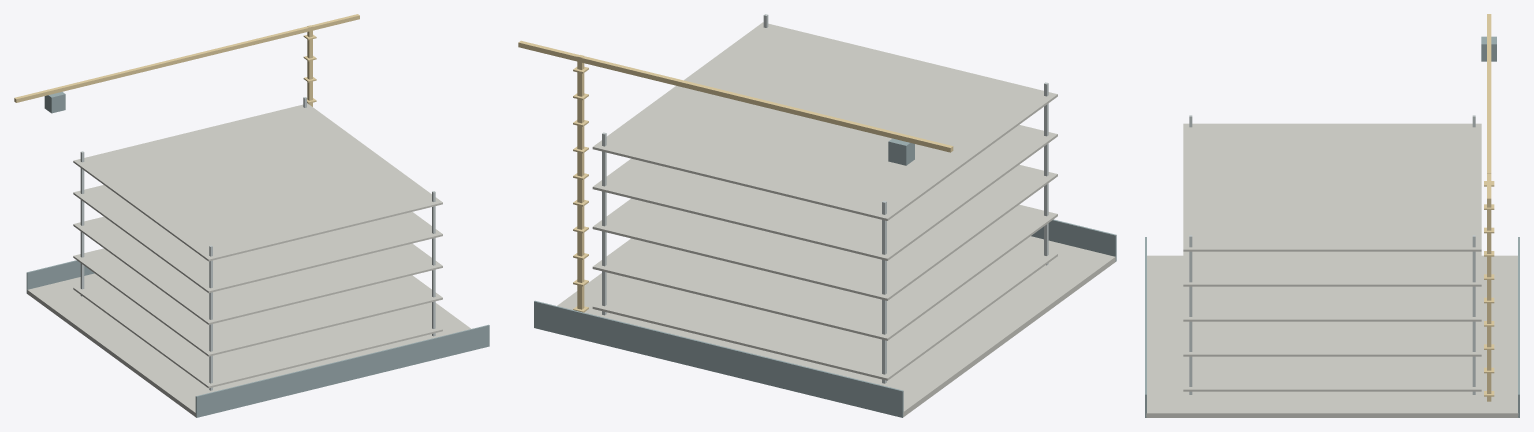
The model's file is remaster_site_3_3.glb.
The picture shows the model from 3 angles, left to right: view 1: azimuth 30°, elevation 25°; view 2: azimuth 150°, elevation 25°; view 3: azimuth 270°, elevation 25°; orthographic projection. The views are drawn at different scales.
Visible parts, largest first — view 1: remaster_site_3_3 stone, remaster_site_3_3 roof, remaster_site_3_3 gold, remaster_site_3_3 metal; view 2: remaster_site_3_3 stone, remaster_site_3_3 roof, remaster_site_3_3 gold, remaster_site_3_3 metal; view 3: remaster_site_3_3 stone, remaster_site_3_3 gold, remaster_site_3_3 metal, remaster_site_3_3 roof.
Part boxes in pixels (bbox=[...]): remaster_site_3_3 stone: bbox=[27, 103, 470, 417]; remaster_site_3_3 roof: bbox=[26, 92, 489, 417]; remaster_site_3_3 gold: bbox=[14, 14, 359, 106]; remaster_site_3_3 metal: bbox=[80, 97, 435, 390]; remaster_site_3_3 stone: bbox=[557, 22, 1115, 416]; remaster_site_3_3 roof: bbox=[534, 138, 1116, 417]; remaster_site_3_3 gold: bbox=[518, 40, 953, 312]; remaster_site_3_3 metal: bbox=[602, 14, 1048, 383]; remaster_site_3_3 stone: bbox=[1146, 123, 1518, 417]; remaster_site_3_3 gold: bbox=[1484, 14, 1494, 401]; remaster_site_3_3 metal: bbox=[1189, 115, 1475, 394]; remaster_site_3_3 roof: bbox=[1145, 36, 1519, 417].
Size of the model in its own units: 34 by 20 by 29.14.
